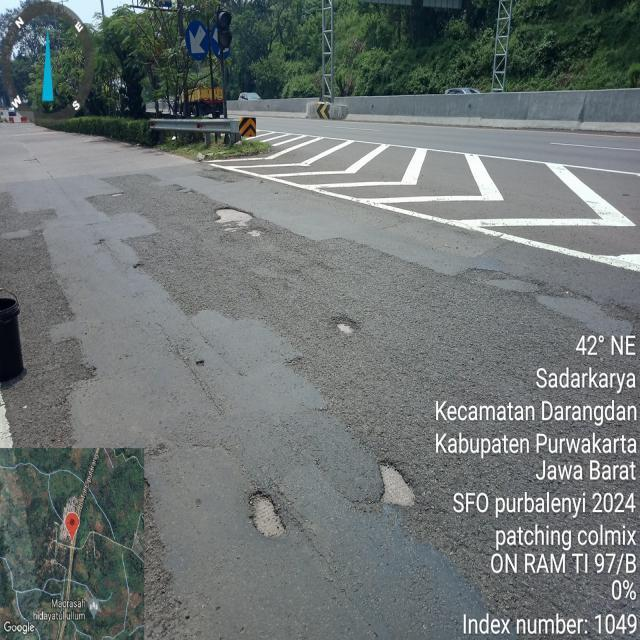Buraco: (374, 456, 423, 511), (245, 488, 291, 542), (211, 206, 271, 238), (325, 315, 363, 339), (108, 191, 127, 199)
